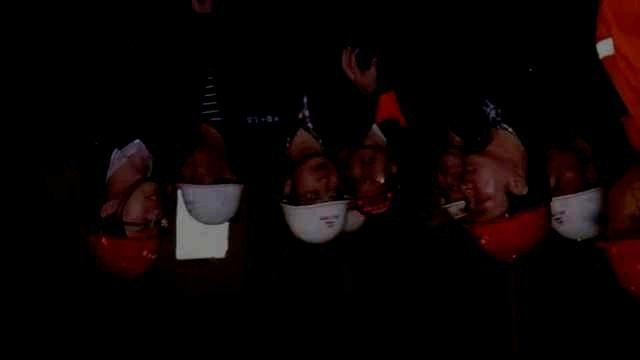helmet: (461, 154, 547, 261), (89, 177, 164, 279), (280, 154, 352, 243), (174, 143, 244, 225), (597, 174, 640, 294), (550, 158, 606, 242), (354, 149, 398, 214), (437, 144, 469, 218)
